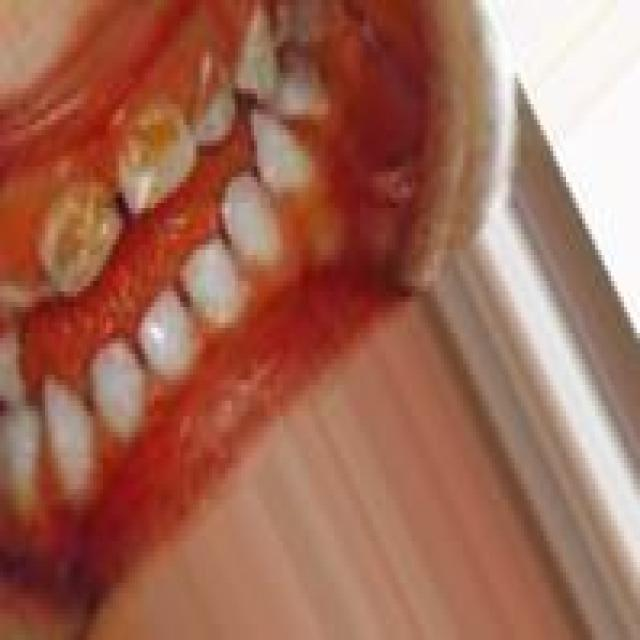caries: (39, 175, 124, 302), (118, 96, 196, 207), (243, 0, 314, 113), (192, 48, 242, 154)
